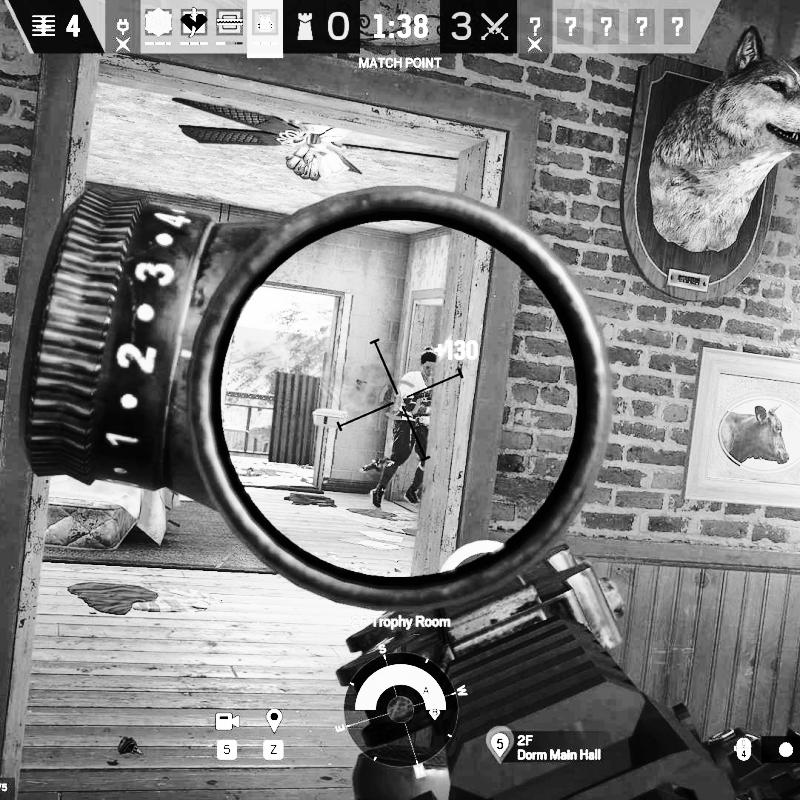Character: (368, 344, 441, 511)
Head: (419, 346, 439, 378)
